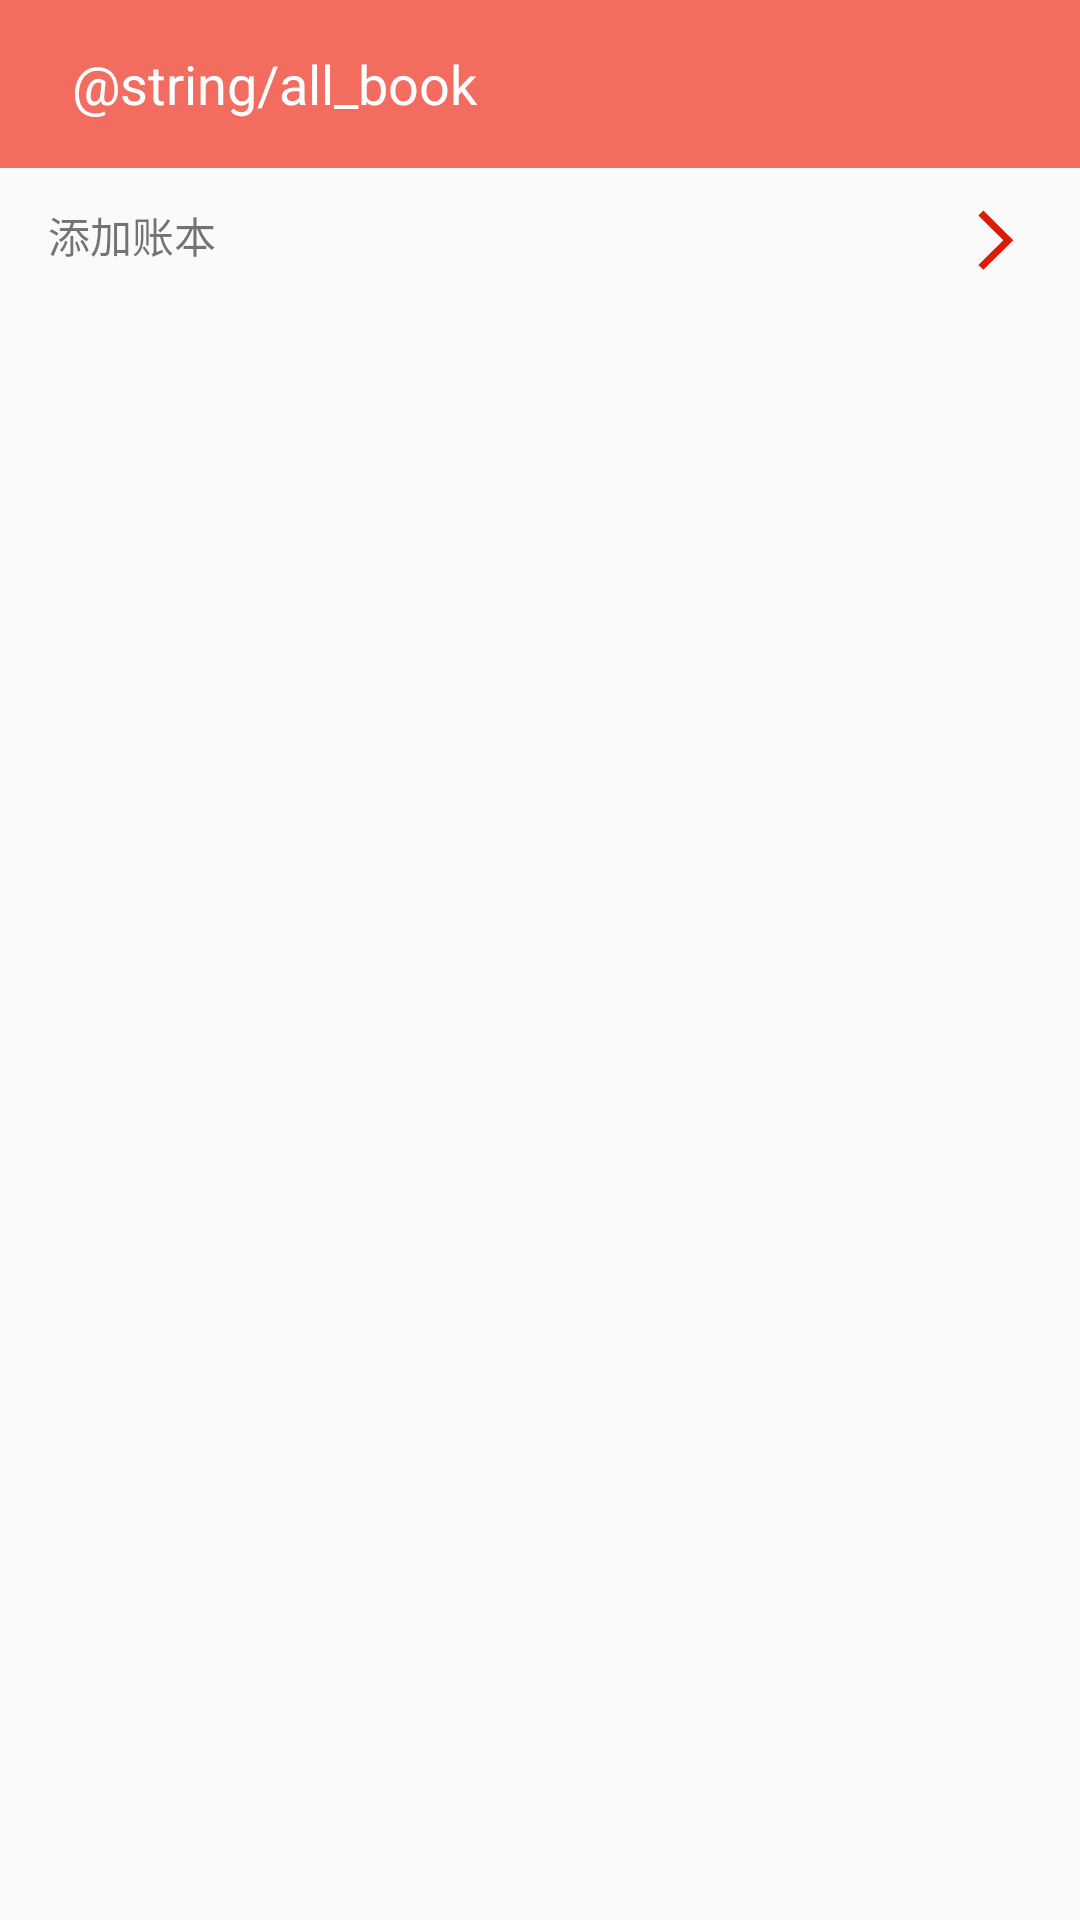

Named icons in this screenshot (1080*1920) and their bounding boxes, (x1, y1, x2, y2):
arrow right: (978, 210, 1013, 270)
